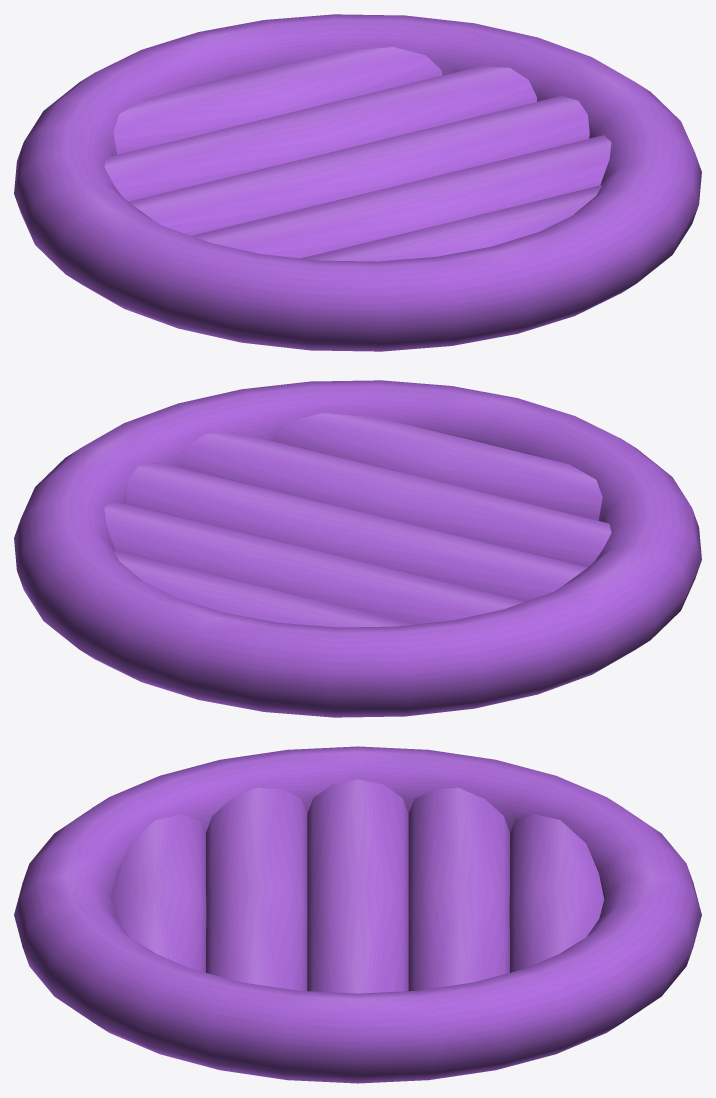
File: tube_round_violet.fbx
3 views of the same model, one above another, from view 1: azimuth 30°, elevation 25°; view 2: azimuth 150°, elevation 25°; view 3: azimuth 270°, elevation 25° (orthographic).
Visible parts, largest first — view 1: tube_round_violet; view 2: tube_round_violet; view 3: tube_round_violet.
Part boxes in pixels (x1,y1,x2,y2): tube_round_violet: (14,14,701,351); tube_round_violet: (14,380,701,717); tube_round_violet: (14,746,701,1083).
Size of the model in its own units: 80 by 10.09 by 80.
